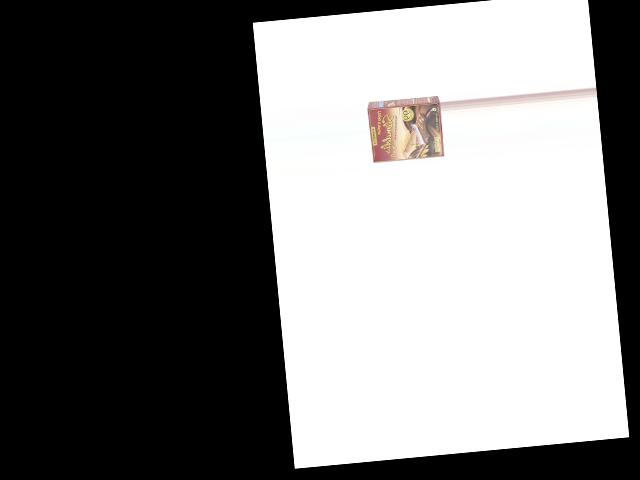chocolate: (365, 91, 446, 169)
